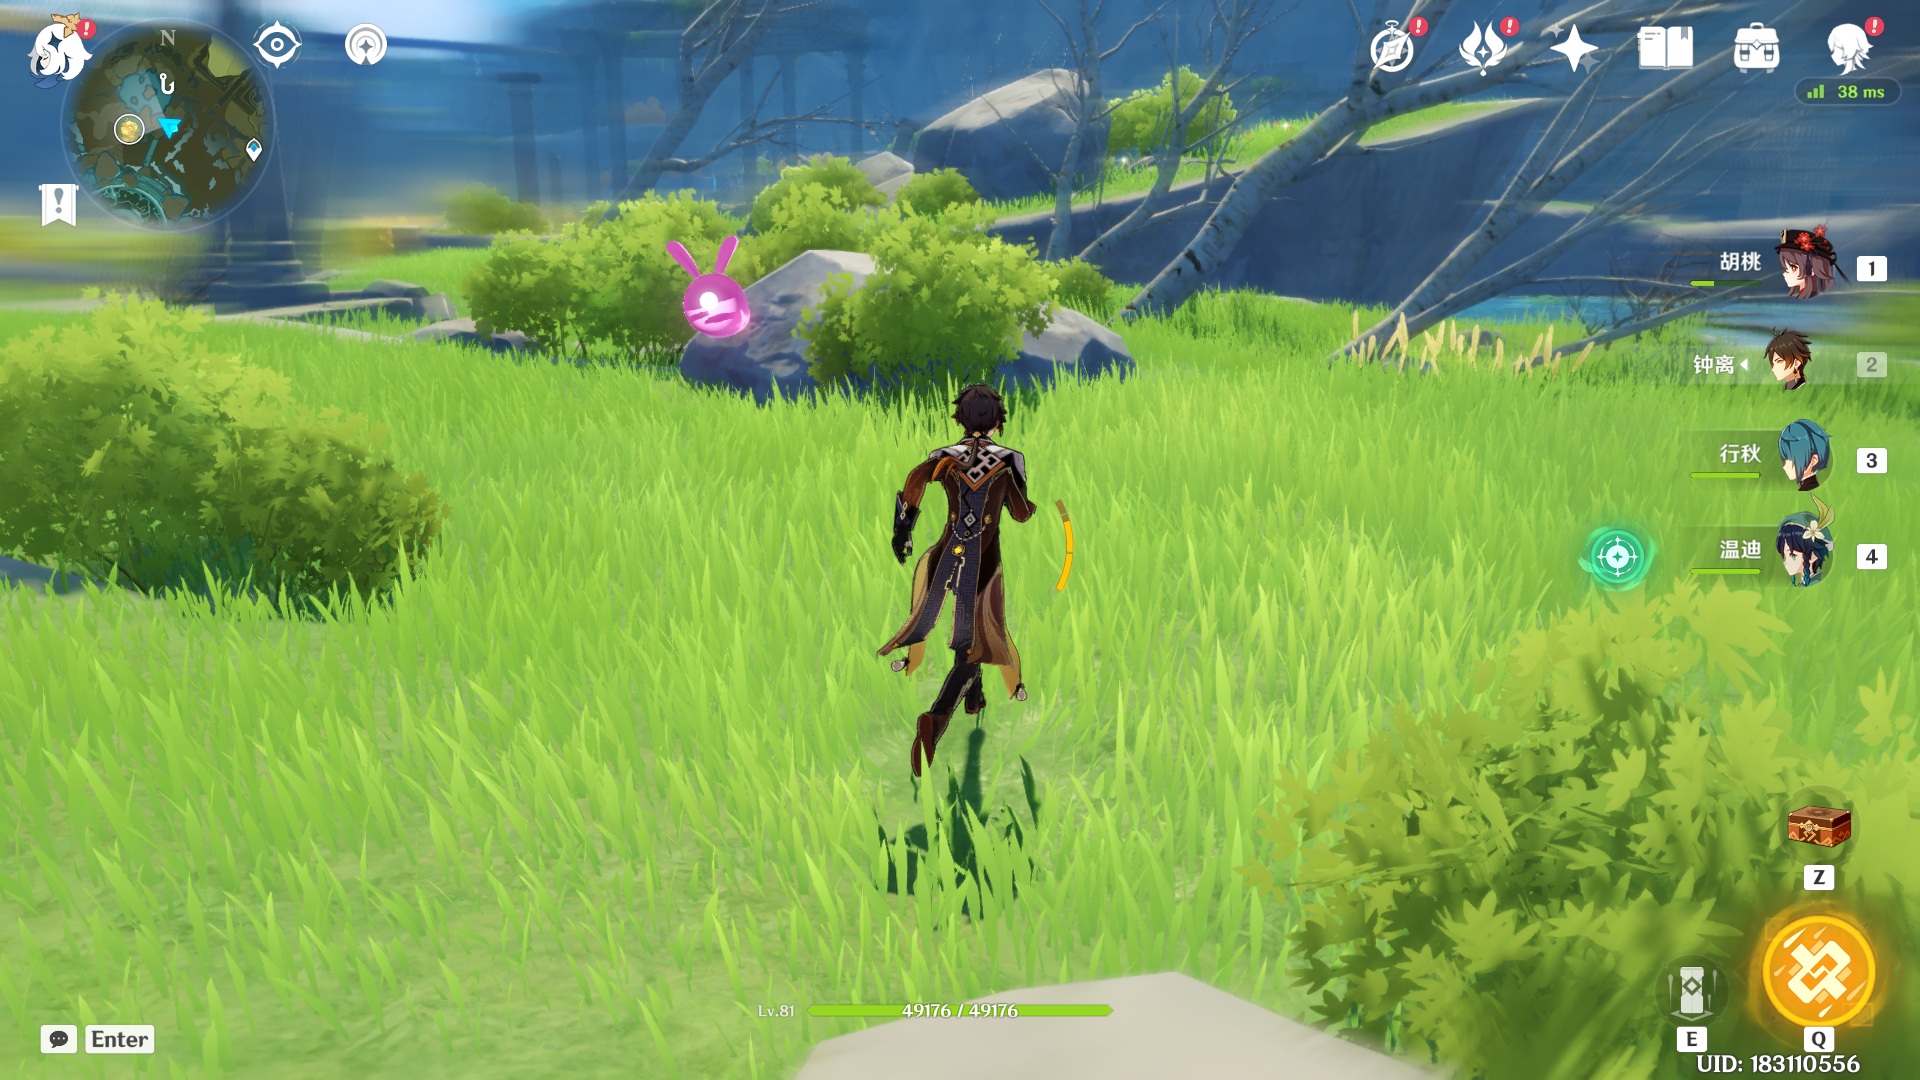character: (816, 342, 1106, 810)
